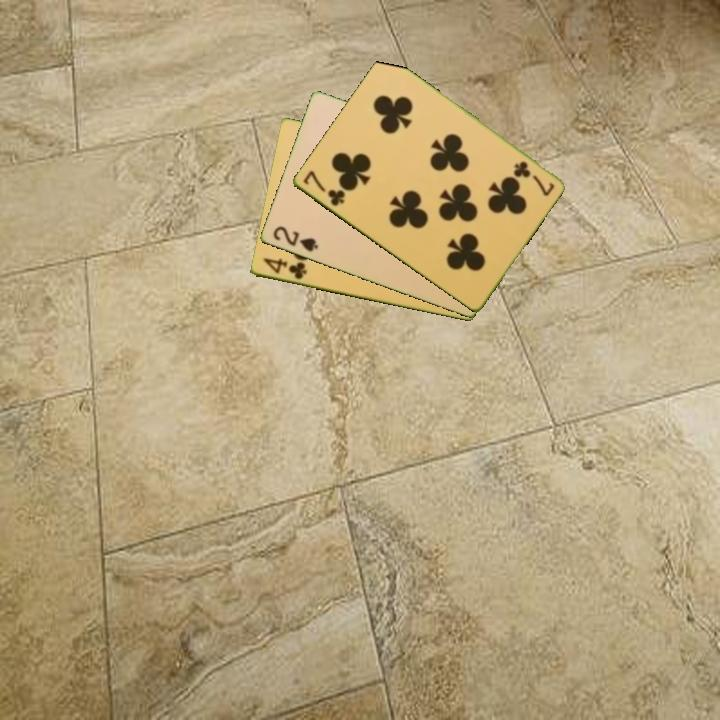2s: (269, 223, 321, 255)
4c: (259, 255, 309, 282)
7c: (299, 167, 348, 209), (510, 157, 557, 198)
